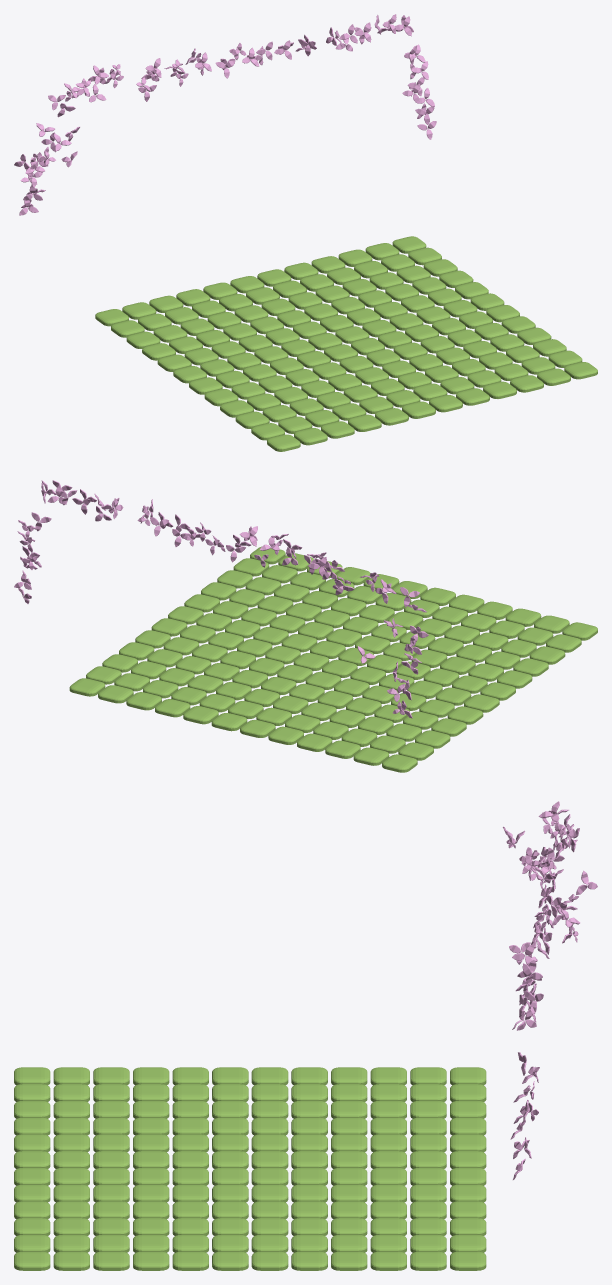
The model's file is fieldSpring.glb.
3 renders of one model, top to bottom at view 1: azimuth 30°, elevation 25°; view 2: azimuth 150°, elevation 25°; view 3: azimuth 270°, elevation 25°, orthographic. The views are drawn at different scales.
Visible parts, largest first — view 1: playfield; view 2: playfield; view 3: playfield.
Boxes of the visible parts, x1,y1,x2,y2 form: playfield: [95, 236, 597, 451]; playfield: [69, 546, 597, 772]; playfield: [14, 1067, 486, 1270].
Size of what is drawn, in the model's own units: 14.73 by 7.79 by 14.74.
